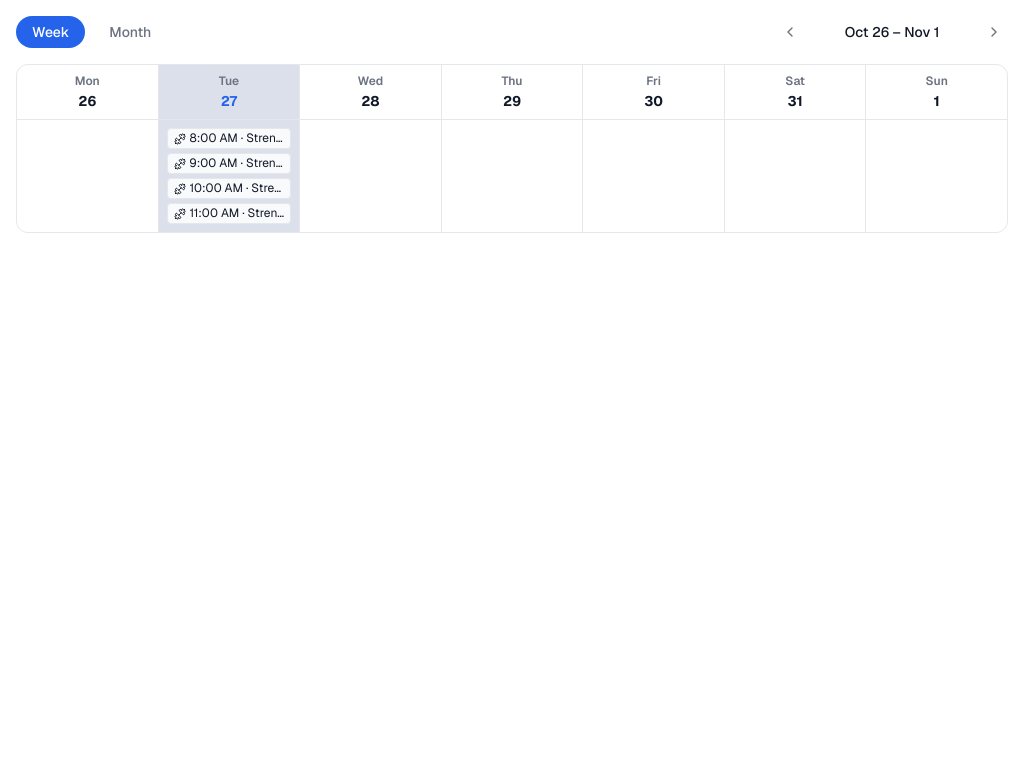
Scenario: CalendarView › caps Month inline events at three and opens all events from +N more
This screenshot has width=1024, height=768.
Click the button "month": (130, 32) [93,16,167,48]
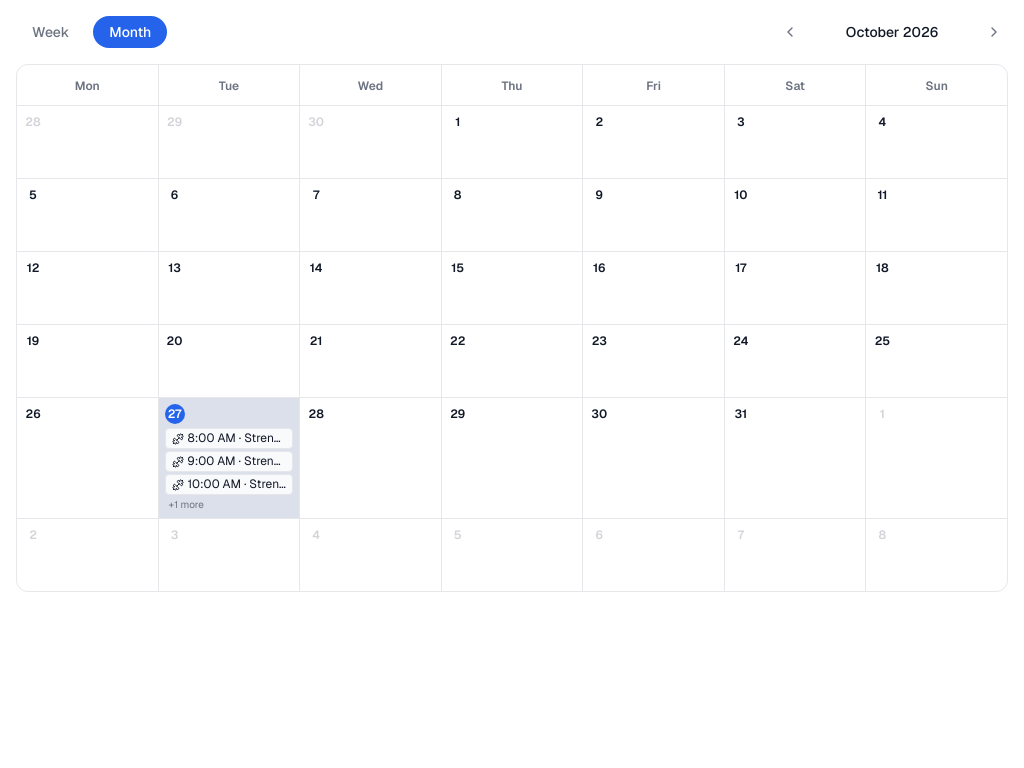
Check: the number of icons with class "lucide-dumbbell" is 3, box [172,432,184,444]; [172,456,184,468]; [172,478,184,490]
Check: the button "+1 more" is shown
Click the button "+1 more": (229, 504) [165,497,293,512]
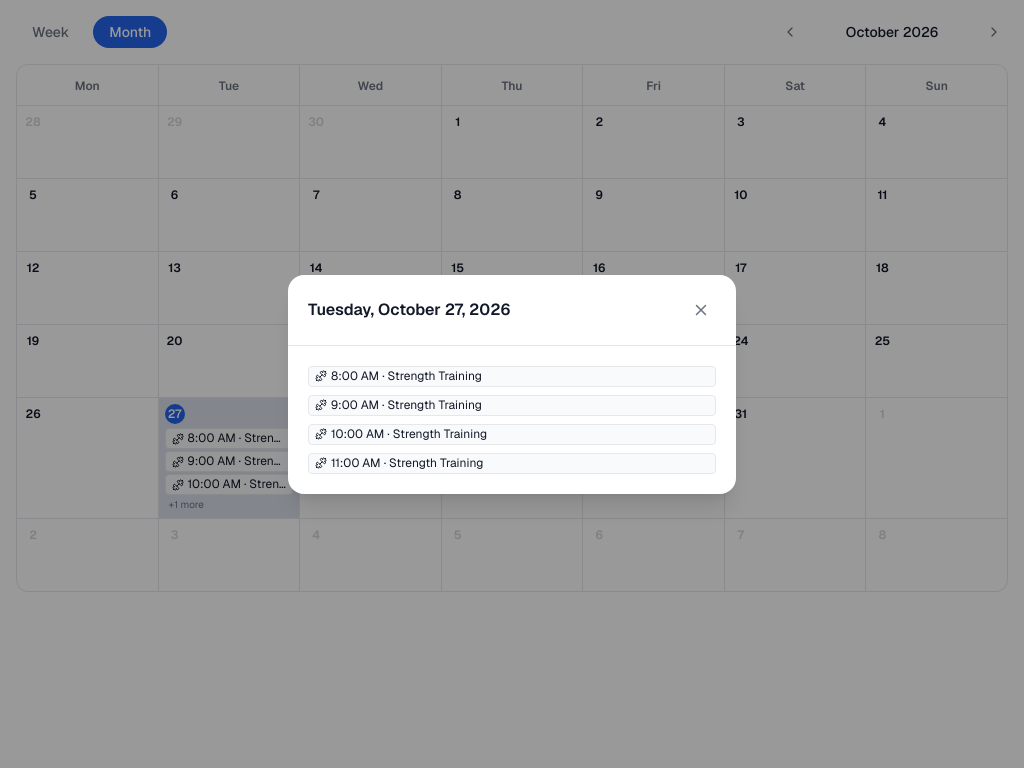
Check: the dialog is shown, box [288,274,736,494]
Check: the number of icons with class "lucide-dumbbell" is 7
